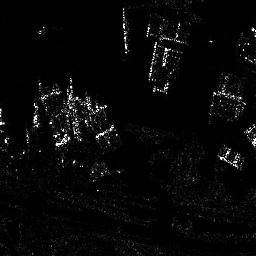ship: (120, 12, 130, 53)
